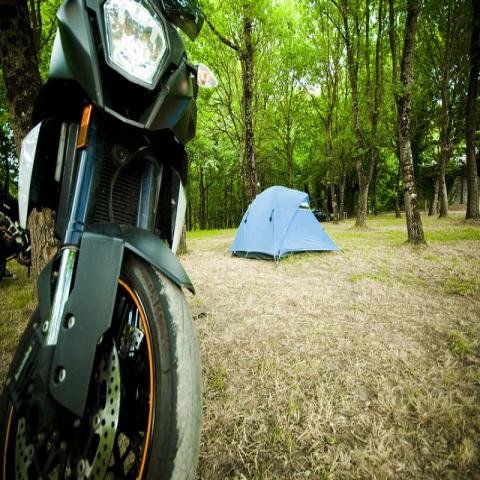motorcycle: (0, 0, 219, 479), (0, 185, 32, 283)
